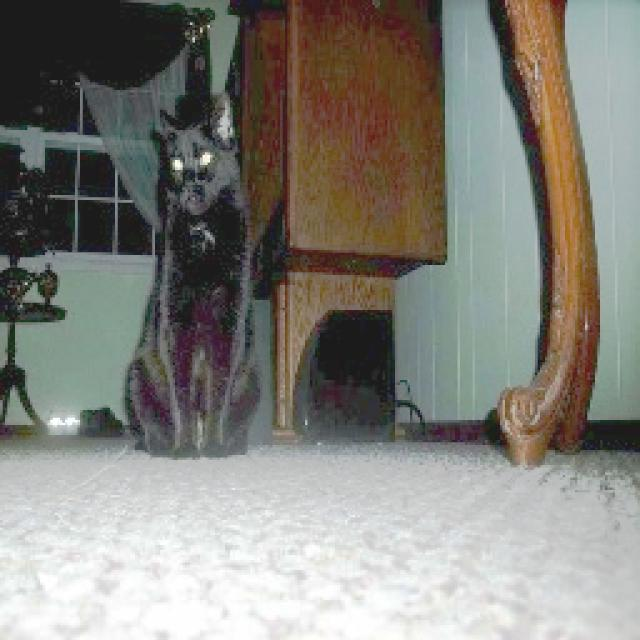cat: (105, 87, 303, 484)
